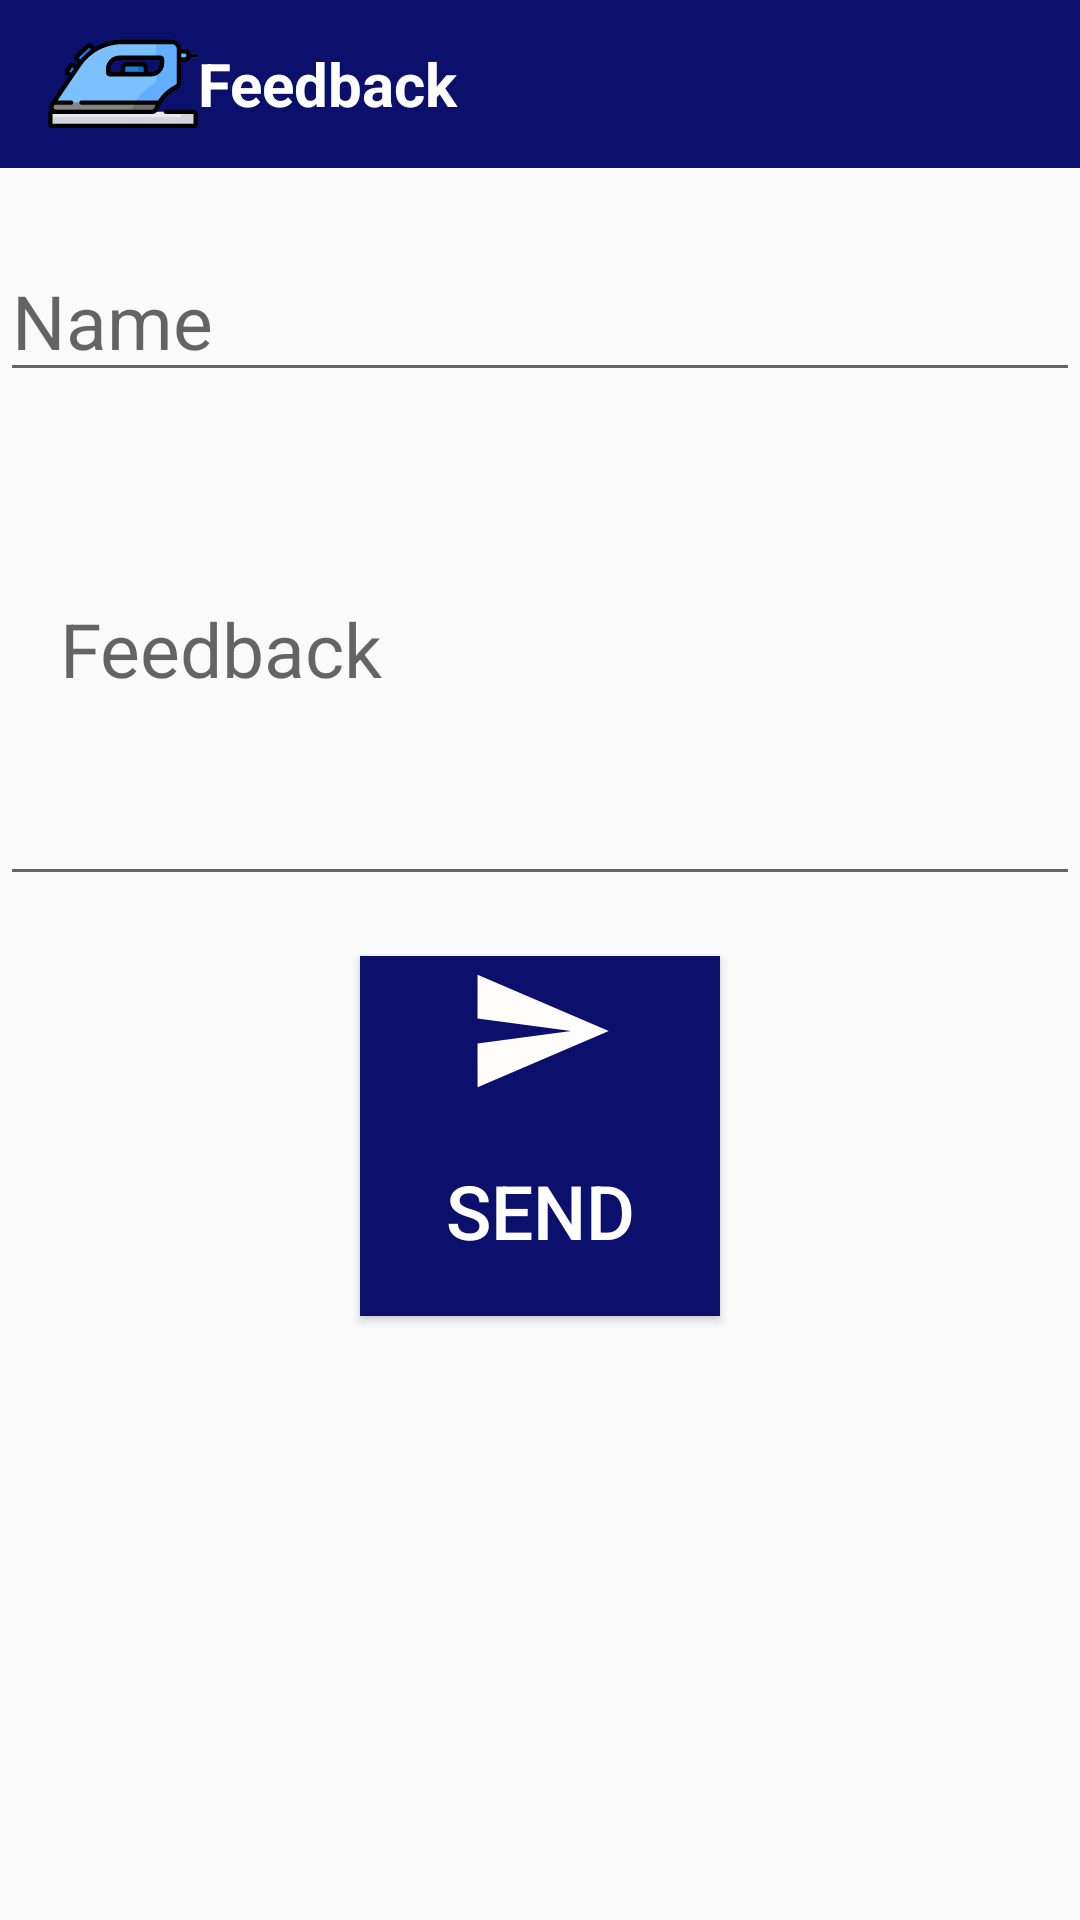

Locate icon controls on the screen. Image size 1080*1920, boxes as (x1, y1, x2, y2).
iron: (48, 39, 198, 128)
